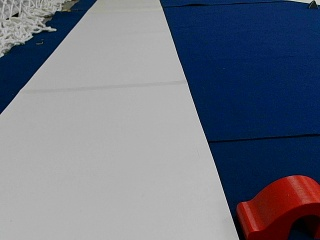bridge: (239, 175, 316, 235)
